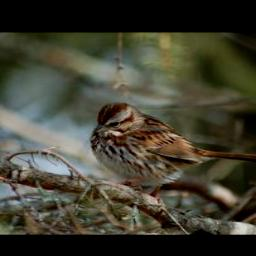Sparrow: (88, 99, 256, 206)
